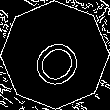O_NE: (22, 22, 88, 88)
